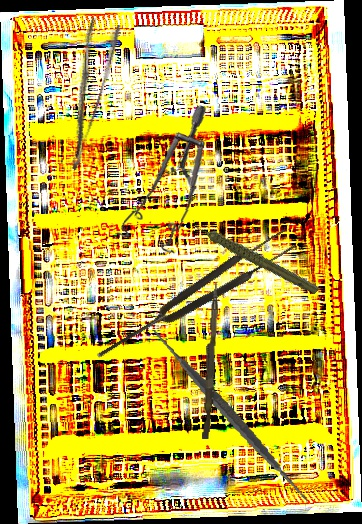Dressing Forceps: (47, 16, 124, 172)
Handpiece: (189, 193, 321, 318)
Pusher: (202, 281, 219, 440)
Spatula Surgical: (131, 315, 330, 517)
Speculum: (105, 104, 220, 260)
Tissue Forceps: (89, 226, 299, 367)
